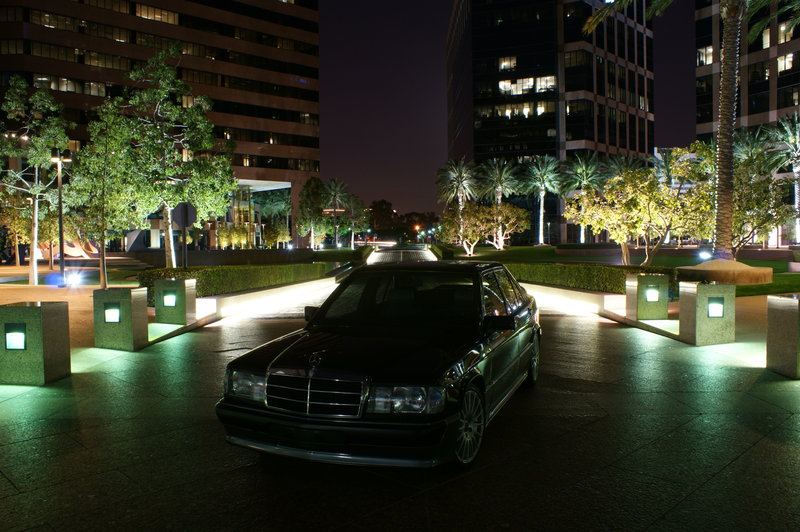car: (210, 253, 547, 485)
